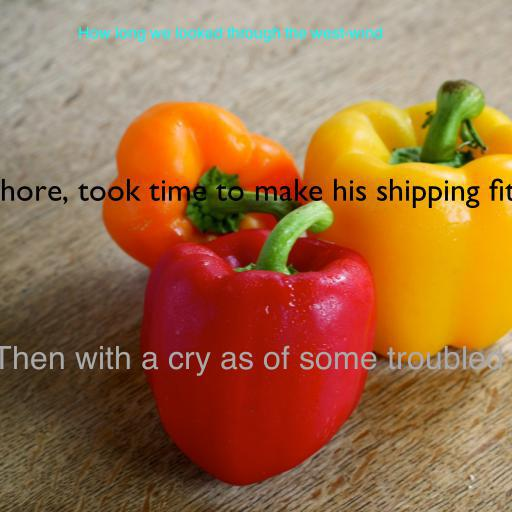Big Caslon: (0, 345, 512, 376)
Gill Sans: (0, 178, 512, 208)
SignPainter: (77, 26, 383, 42)
